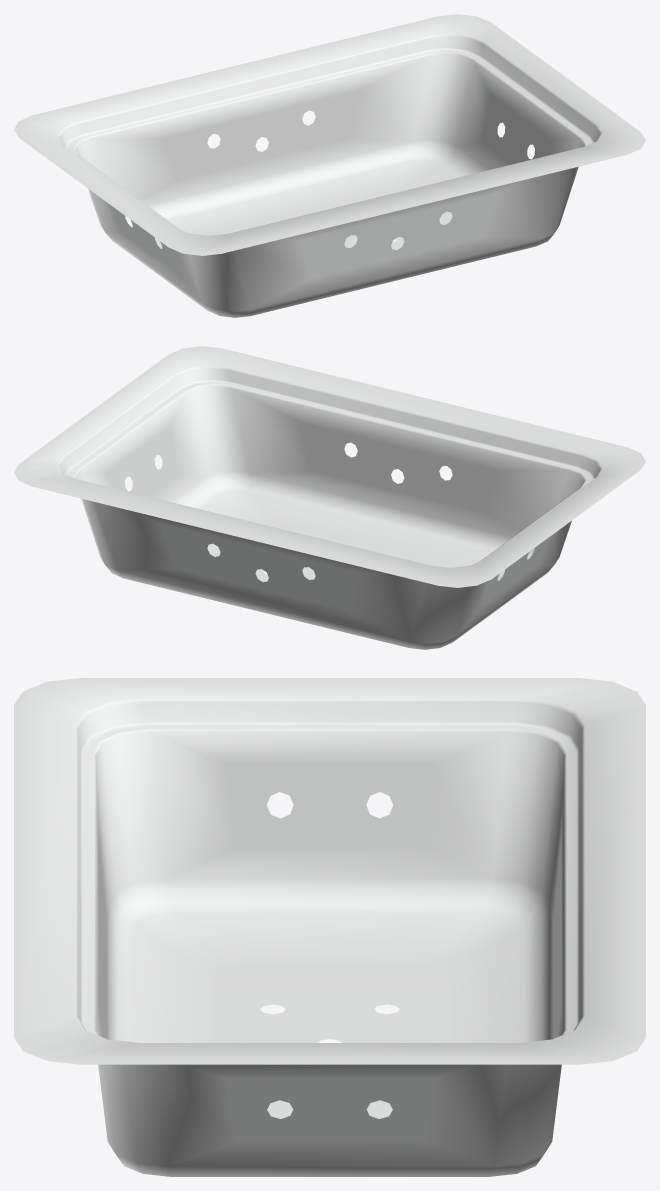
Rendered from Wadah Daging.fbx.
3 renders of one model, top to bottom at view 1: azimuth 30°, elevation 25°; view 2: azimuth 150°, elevation 25°; view 3: azimuth 270°, elevation 25°, orthographic. The views are drawn at different scales.
Parts seen in each view (by area): view 1: Wadah Daging; view 2: Wadah Daging; view 3: Wadah Daging.
Part boxes in pixels (<box>): Wadah Daging: <box>14,14,645,317</box>; Wadah Daging: <box>14,346,645,649</box>; Wadah Daging: <box>14,678,645,1176</box>.
Size of the model in its own units: 35.56 by 7.49 by 24.62.
Materials: 1 (1 with a texture image).
